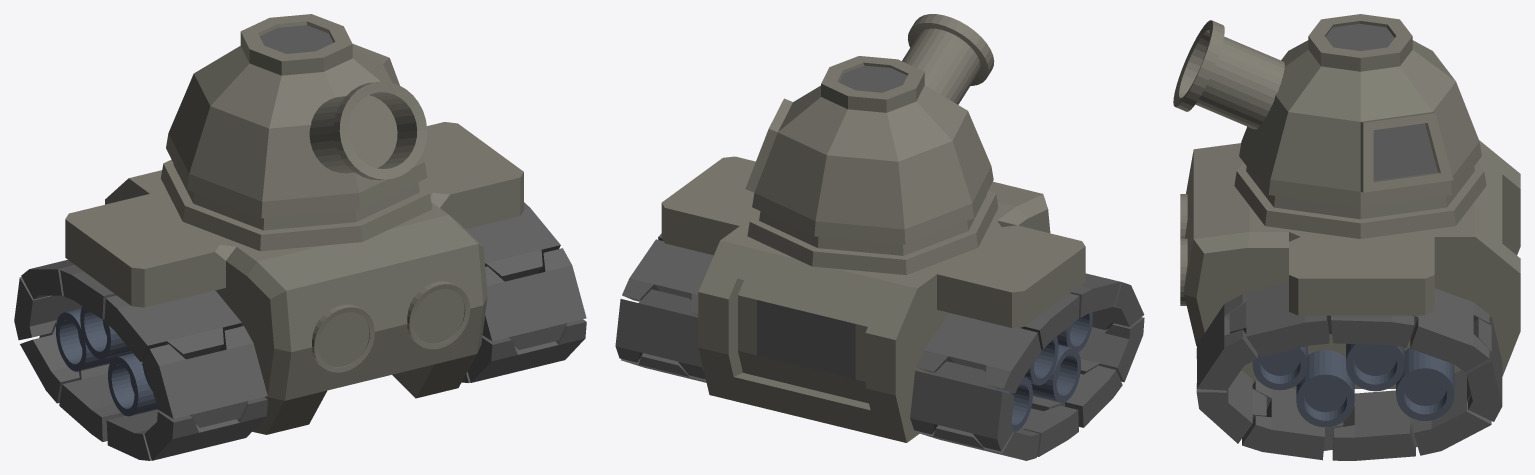
Rendered from smallTank.fbx.
3 renders of one model, left to right at view 1: azimuth 30°, elevation 25°; view 2: azimuth 150°, elevation 25°; view 3: azimuth 270°, elevation 25°, orthographic. The views are drawn at different scales.
Parts seen in each view (by area): view 1: tankBody.001, tracks.001, top, barrel, light.002, light.003, Cylinder.020, Cylinder.022, Cylinder.021; view 2: tankBody.001, top, tracks.001, barrel, Cylinder.020, Cylinder.021, Cylinder.022, Cylinder.019; view 3: top, tankBody.001, tracks.001, barrel, Cylinder.020, Cylinder.022, Cylinder.021, Cylinder.019, light.003.
Part boxes in pixels (x1,y1,x2,y2): tankBody.001: [65, 122, 523, 434]; tracks.001: [14, 202, 586, 460]; top: [161, 14, 432, 251]; barrel: [309, 81, 427, 180]; light.002: [312, 304, 374, 372]; light.003: [407, 281, 470, 349]; Cylinder.020: [108, 353, 157, 416]; Cylinder.022: [56, 308, 132, 371]; Cylinder.021: [80, 306, 131, 359]; tankBody.001: [661, 156, 1085, 442]; top: [745, 56, 998, 274]; tracks.001: [615, 233, 1144, 460]; barrel: [902, 14, 994, 104]; Cylinder.020: [1031, 344, 1080, 402]; Cylinder.021: [1024, 336, 1058, 385]; Cylinder.022: [996, 377, 1032, 431]; Cylinder.019: [1057, 312, 1092, 351]; top: [1234, 14, 1486, 238]; tankBody.001: [1184, 140, 1520, 388]; tracks.001: [1196, 282, 1502, 460]; barrel: [1173, 20, 1284, 129]; Cylinder.020: [1296, 350, 1354, 427]; Cylinder.022: [1396, 347, 1454, 420]; Cylinder.021: [1346, 343, 1404, 391]; Cylinder.019: [1252, 346, 1307, 390]; light.003: [1180, 238, 1187, 305].
Size of the model in its own units: 285 by 233 by 216.
Materials: 2 (2 with a texture image).
